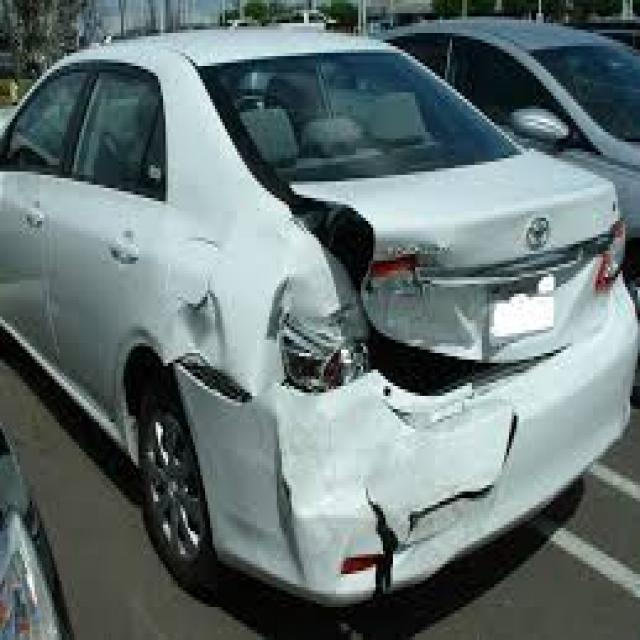damaged-trunk: (302, 147, 601, 360)
